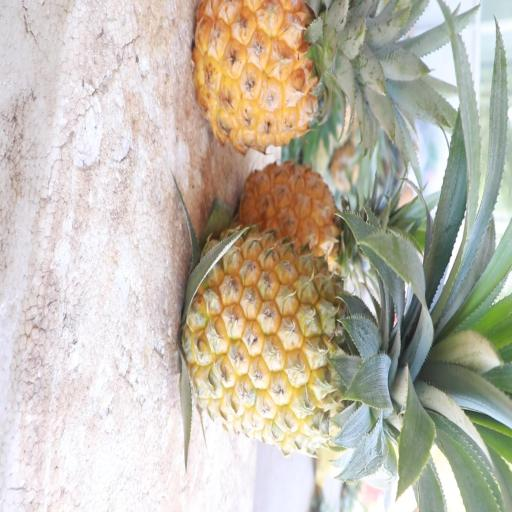Pineapple - v8 v1: (179, 219, 427, 456), (188, 0, 374, 162), (236, 159, 380, 285), (244, 98, 244, 99)
